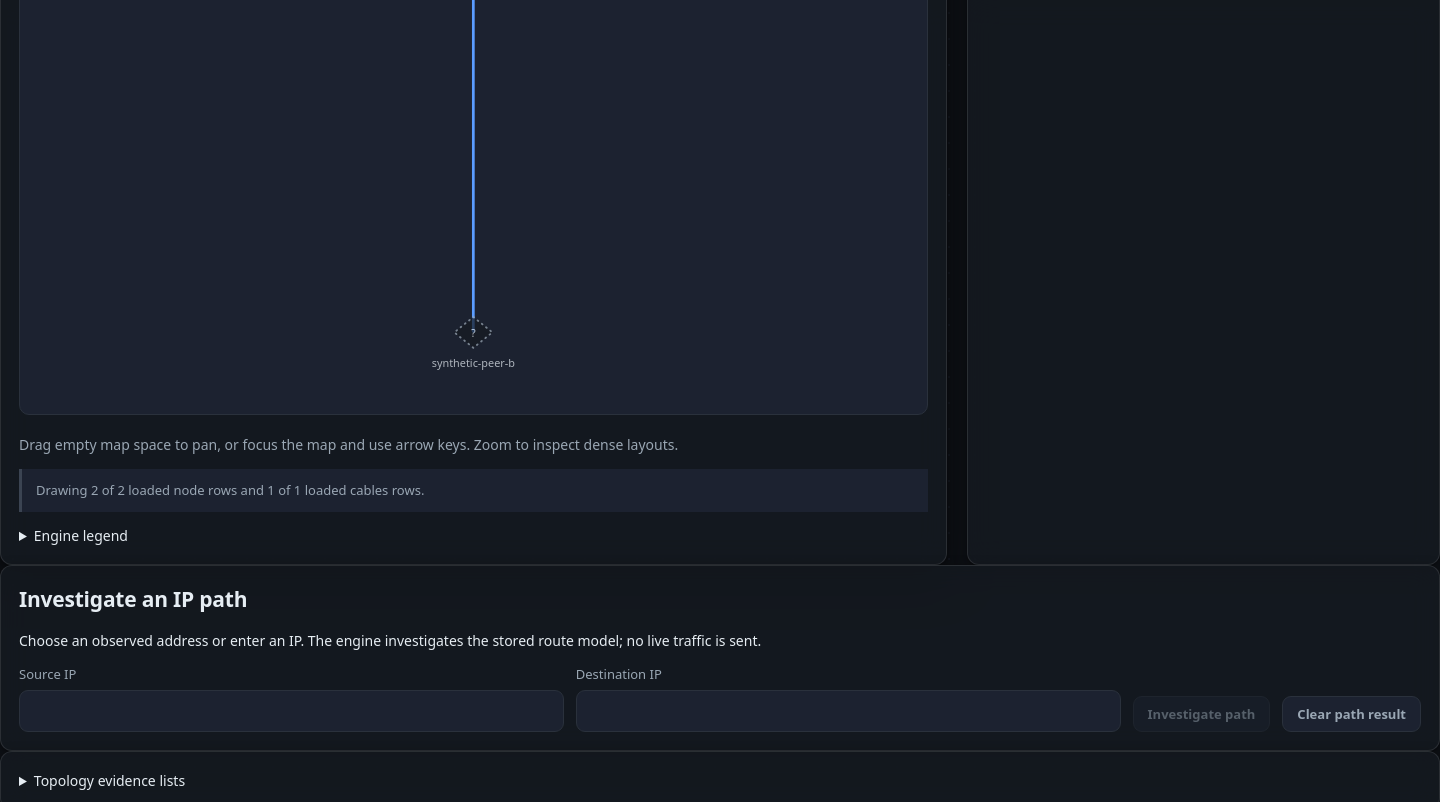
Test: Engine-owned topology and path screen › applies the lower-bound mark only to the failure-impact list: a witness on another list's fact stays plain
(page scrolled)
Click the heading "Topology evidence lists".
click(109, 781)  # box left=34, top=772, right=185, bottom=790
(page scrolled)
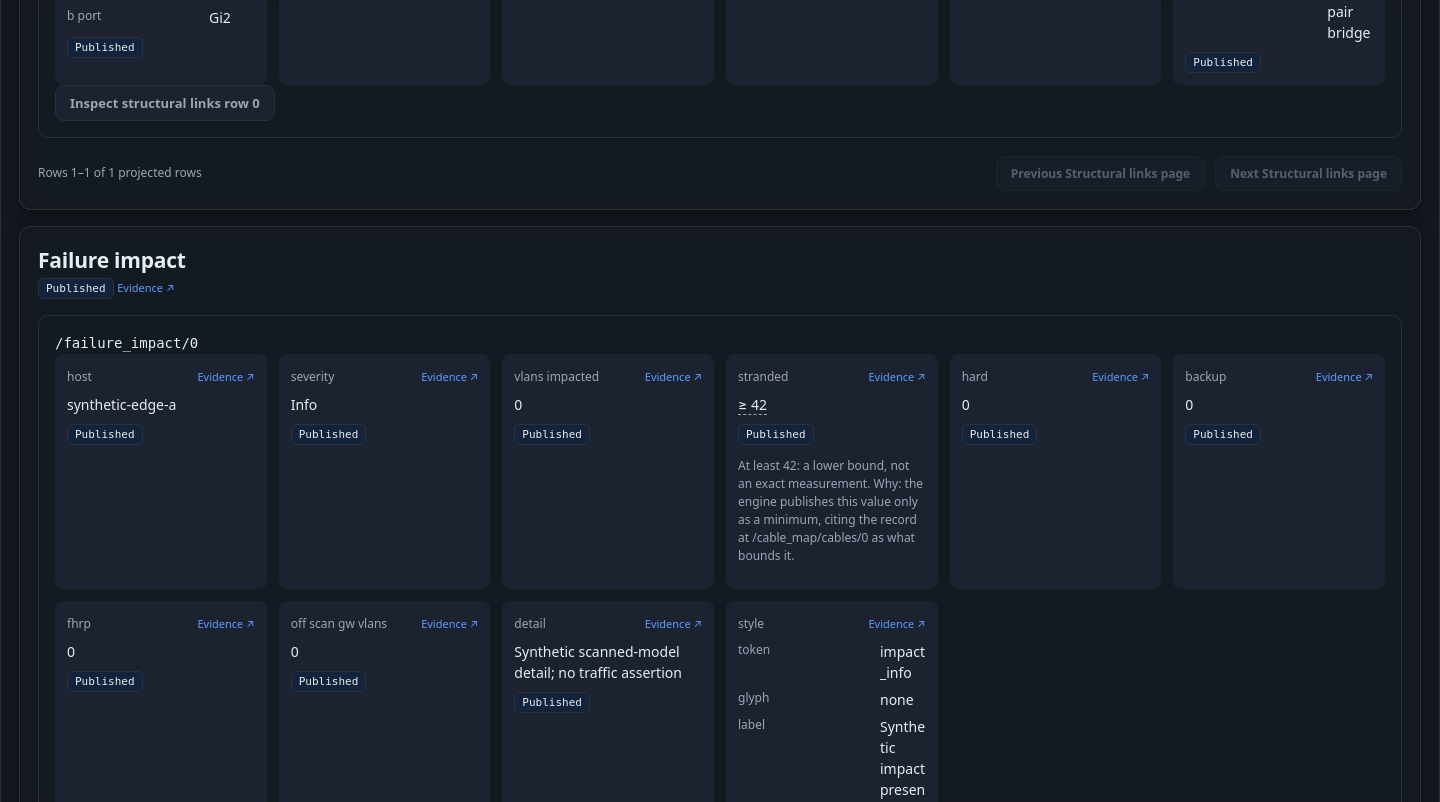
Check: the element showing "≥ 42" is shown, box left=738, top=396, right=767, bottom=416
